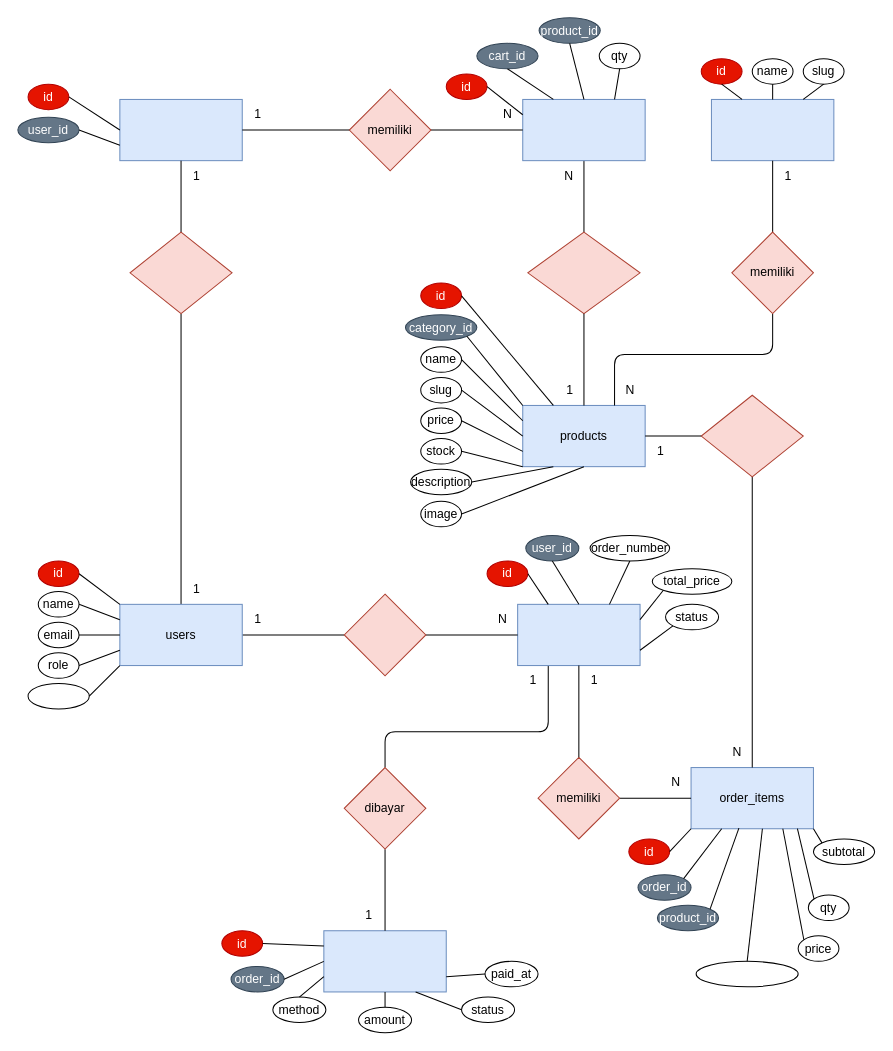
Some shapes in this 893 by 1051 pixel diagram are drawn without their labels. Here are the shapes that lost their labels. From the top down, the centre of each, then its label:
(x=180, y=129): carts
(x=583, y=129): cart_items
(x=772, y=129): categories
(x=180, y=272): menyimpan
(x=583, y=272): ditambahkan ke
(x=751, y=435): terdaftar di
(x=384, y=634): melakukan
(x=578, y=634): orders
(x=58, y=695): password
(x=384, y=961): payments
(x=746, y=973): product_name
